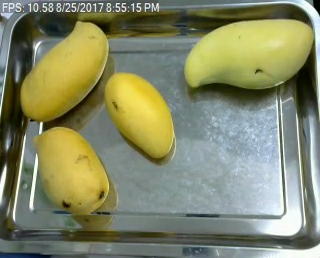Mango: (183, 18, 316, 90), (19, 20, 111, 123), (30, 127, 114, 216), (103, 73, 177, 160)
